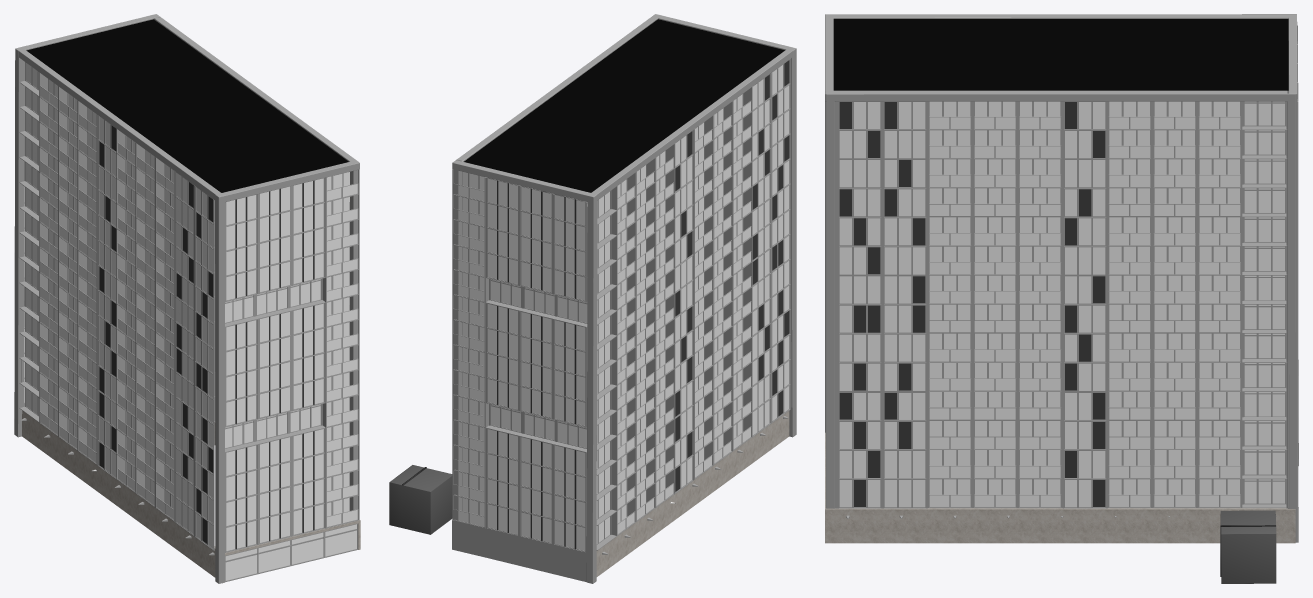
Rendered from mordern building.glb.
3 renders of one model, left to right at view 1: azimuth 30°, elevation 25°; view 2: azimuth 150°, elevation 25°; view 3: azimuth 270°, elevation 25°, orthographic. The views are drawn at different scales.
Visible parts, largest first — view 1: Building; view 2: Building, Cube.001; view 3: Building, Cube.001.
Part boxes in pixels (<box>): Building: <box>14,14,360,583</box>; Building: <box>452,14,796,583</box>; Cube.001: <box>389,465,452,534</box>; Building: <box>825,14,1298,543</box>; Cube.001: <box>1220,510,1276,583</box>.
Bounding box in the file's own units: 25.56 × 43.28 × 41.4.
Materials: 8 (1 with a texture image).
